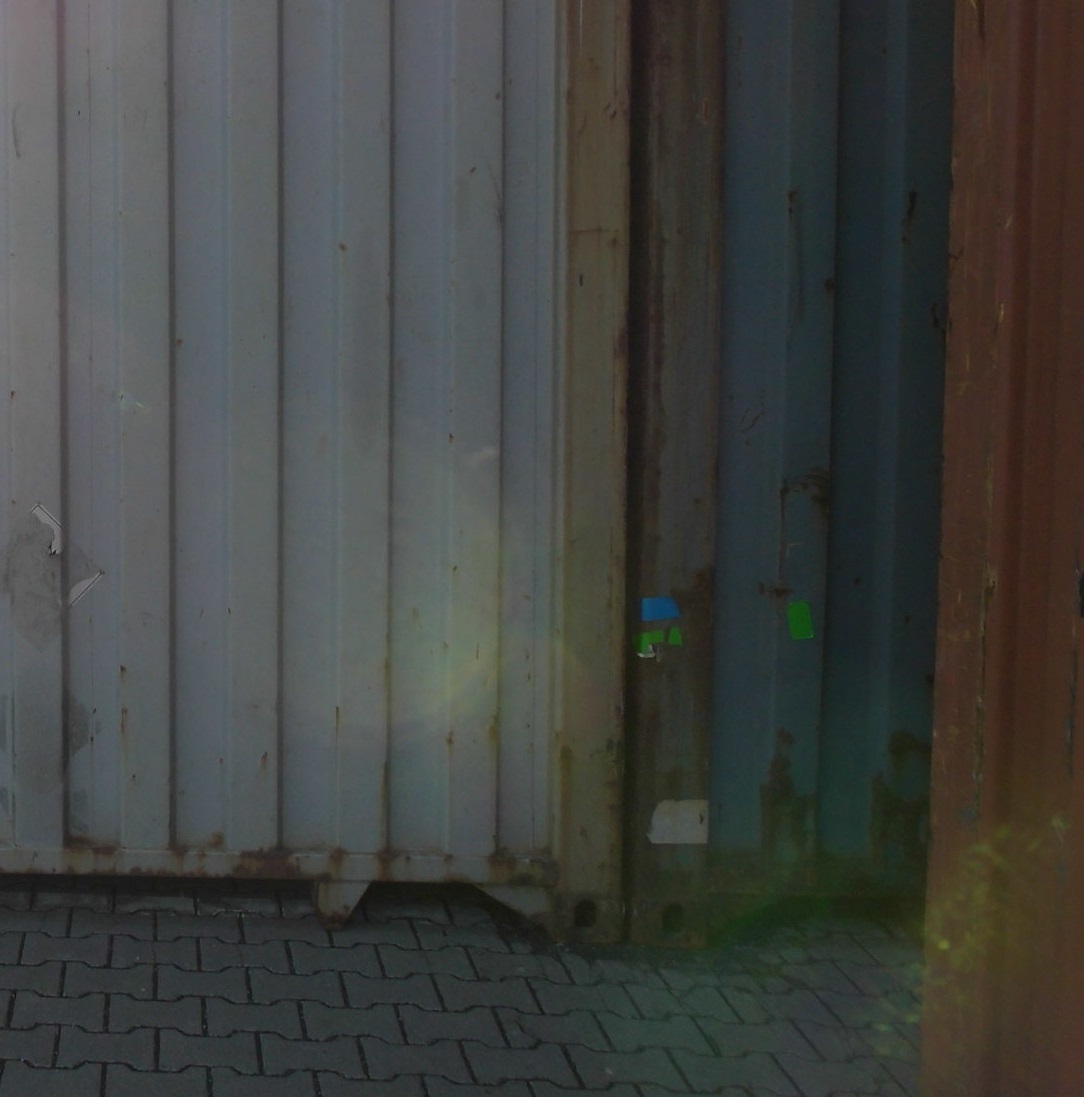container_no_door: (3, 1, 630, 940), (639, 1, 946, 946)
